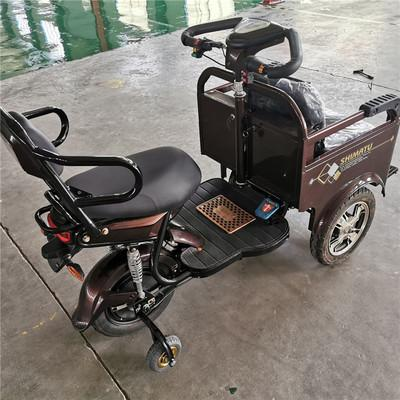empty: (4, 20, 400, 382)
